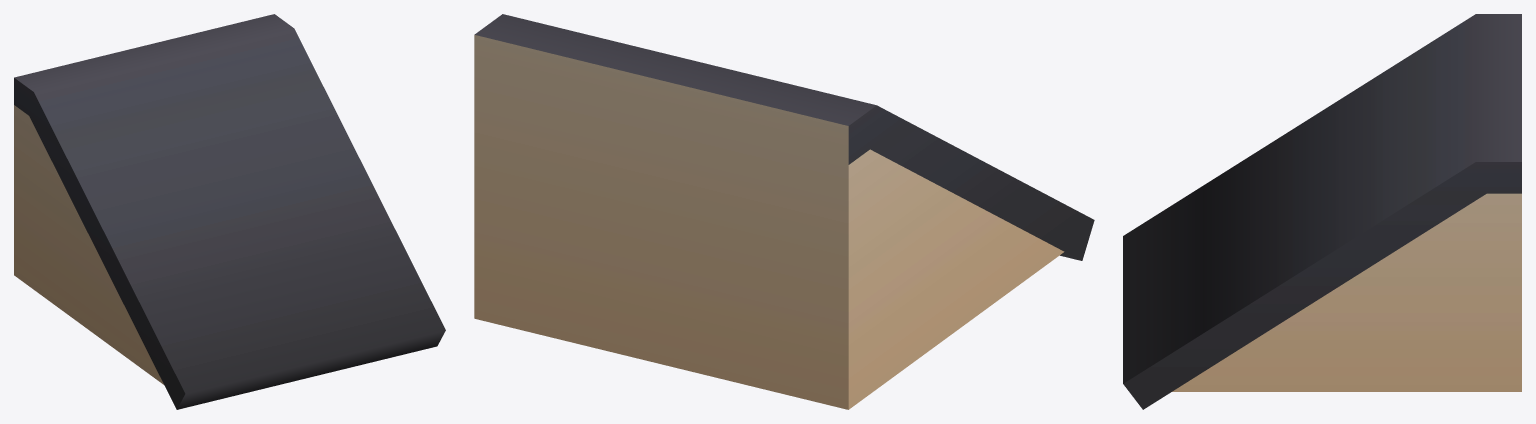
Rendered from kenney-modular-buildings-roof-slanted.glb.
3 renders of one model, left to right at view 1: azimuth 30°, elevation 25°; view 2: azimuth 150°, elevation 25°; view 3: azimuth 270°, elevation 25°, orthographic. The views are drawn at different scales.
Parts seen in each view (by area): view 1: roof-slanted; view 2: roof-slanted; view 3: roof-slanted.
Part boxes in pixels (x1,y1,x2,y2): roof-slanted: (14, 14, 445, 409); roof-slanted: (474, 14, 1094, 409); roof-slanted: (1123, 14, 1521, 409).
Size of the model in its own units: 1 by 0.782 by 1.14.
Materials: 1 (1 with a texture image).
